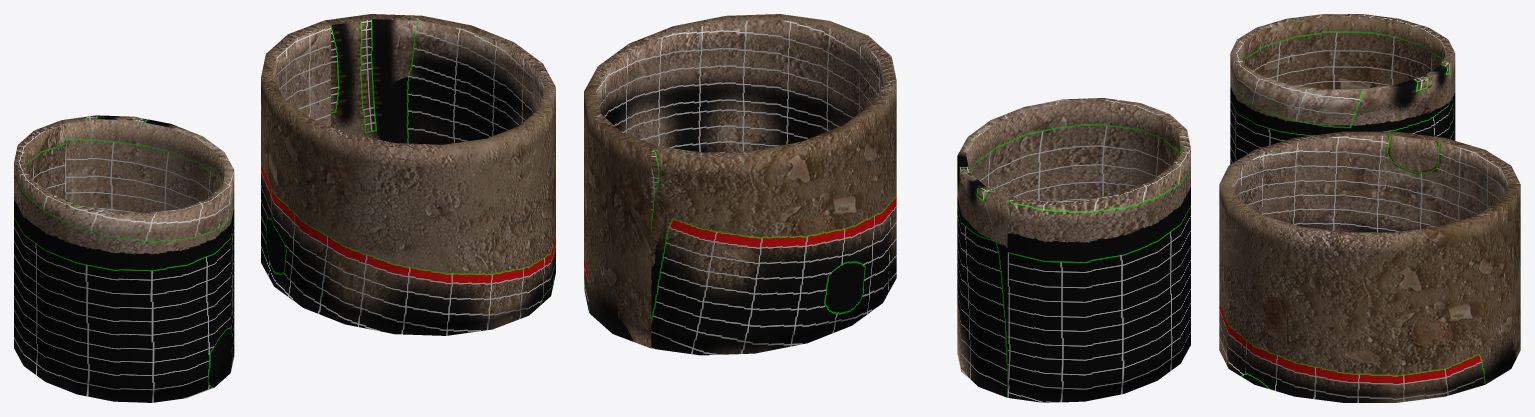
The model's file is craters.gltf.
3 views of the same model, side by side, from view 1: azimuth 30°, elevation 25°; view 2: azimuth 150°, elevation 25°; view 3: azimuth 270°, elevation 25° (orthographic). The views are drawn at different scales.
Visible parts, largest first — view 1: Tube001, Tube002; view 2: Tube001, Tube002; view 3: Tube001, Tube002.
Part boxes in pixels (x1,y1,x2,y2): Tube001: (261, 14, 555, 335); Tube002: (14, 115, 234, 402); Tube001: (584, 14, 896, 355); Tube002: (957, 98, 1190, 402); Tube001: (1219, 131, 1520, 402); Tube002: (1230, 14, 1455, 164).
Size of the model in its own units: 71.18 by 24.87 by 40.73.
